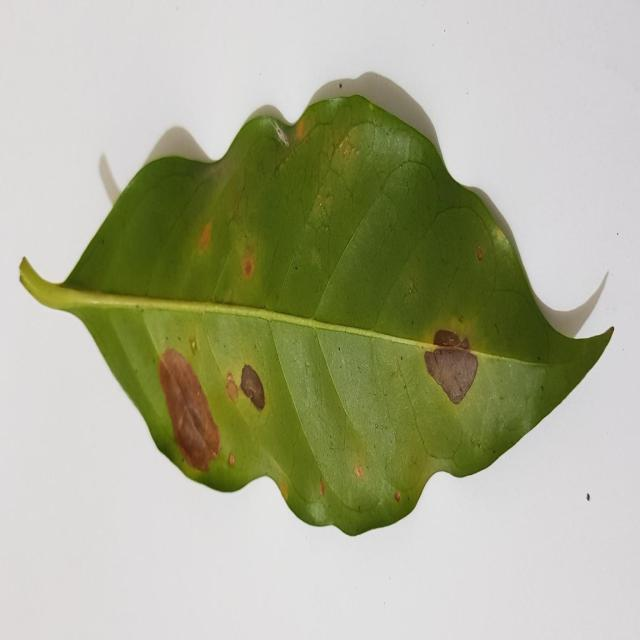Plaga-Minador: (17, 94, 616, 539)
